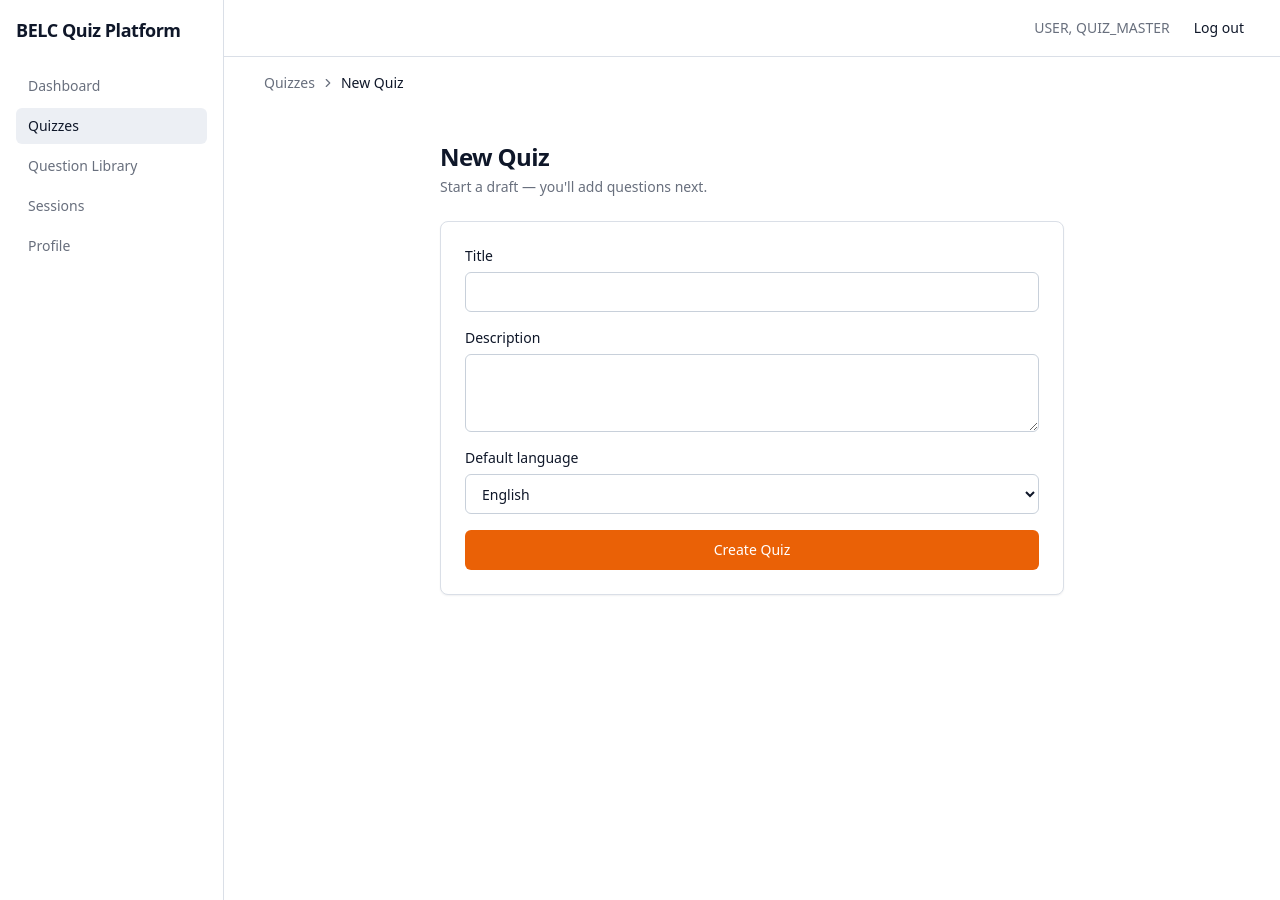
Test case: CreateQuizPage › shows the backend's error message when creation fails
In the field labelled "Title": (752, 292) [465,272,1039,312], type "Genesis Quiz"
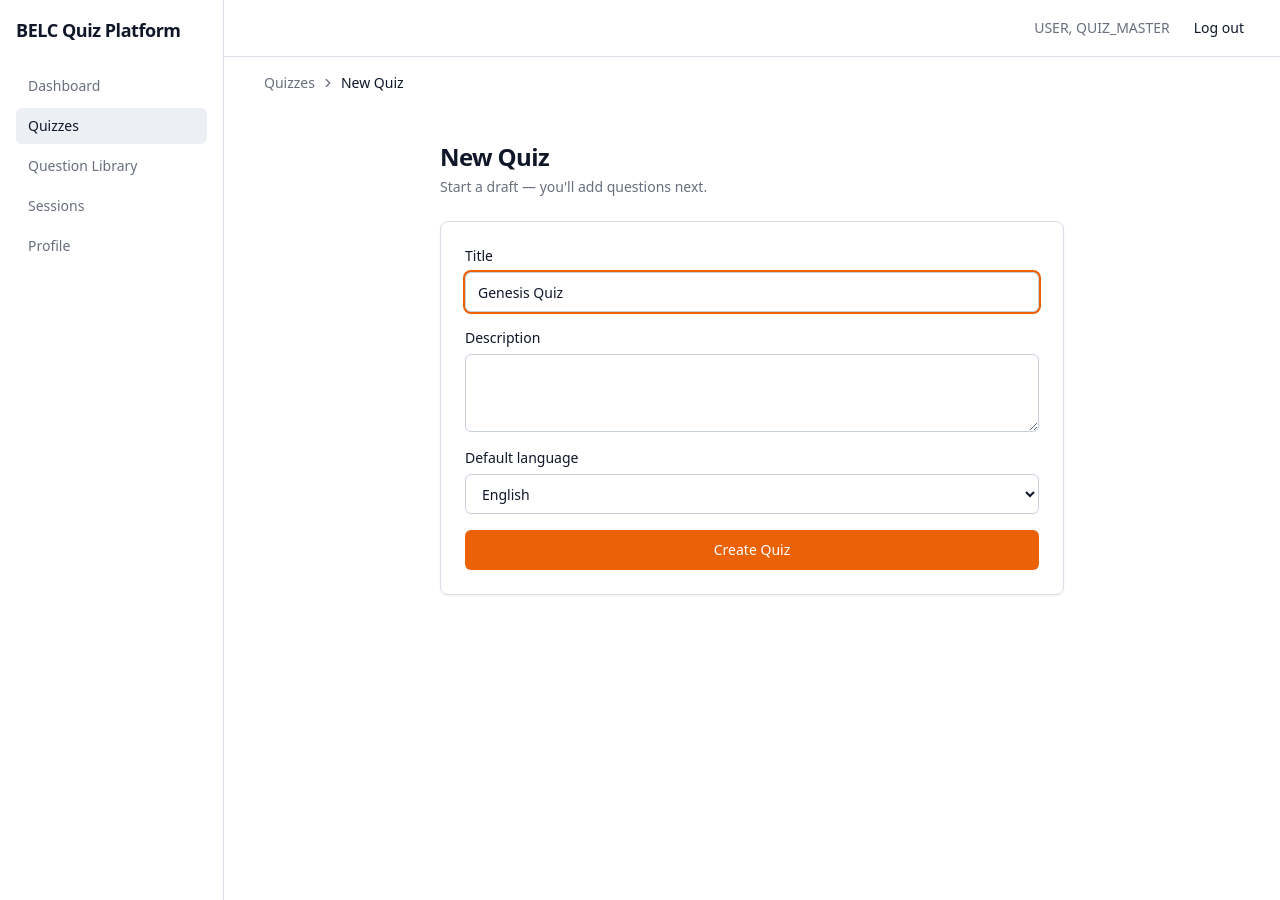
Click the button "Create Quiz": (752, 550) [465,530,1039,570]
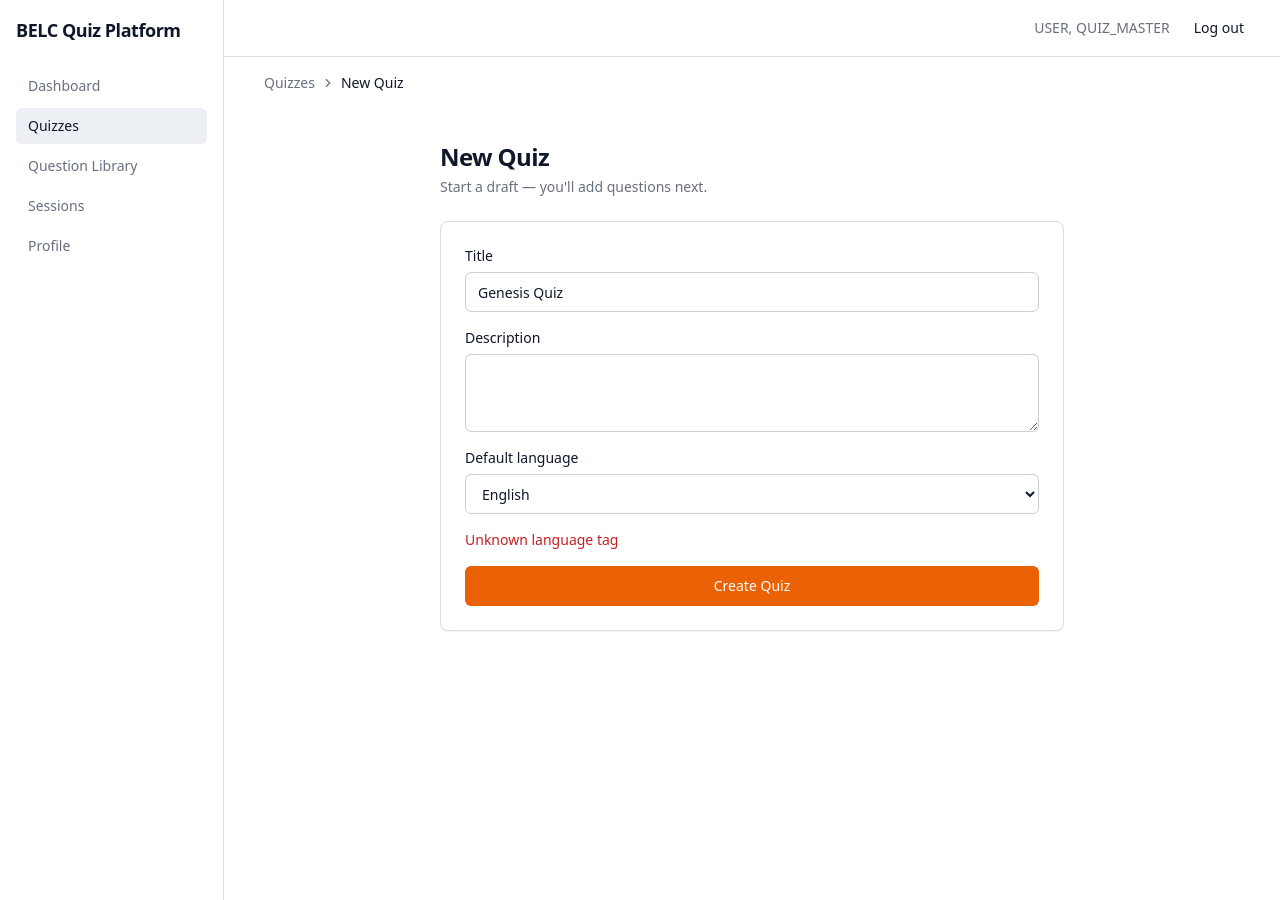
Check: the text "Unknown language tag" is shown, box [465,530,618,549]
